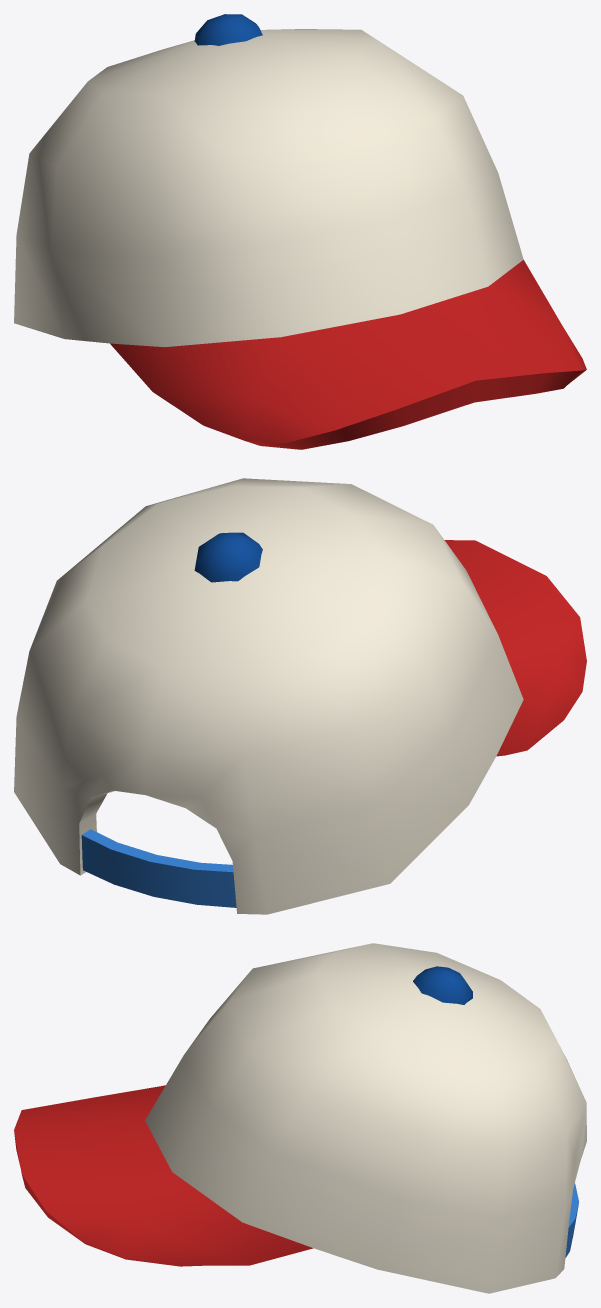
File: Headgear_1.fbx
The picture shows the model from 3 angles, top to bottom: view 1: azimuth 30°, elevation 25°; view 2: azimuth 150°, elevation 25°; view 3: azimuth 270°, elevation 25°; orthographic projection. The views are drawn at different scales.
Visible parts, largest first — view 1: Headgear_1; view 2: Headgear_1; view 3: Headgear_1.
Part boxes in pixels (bbox=[...]): Headgear_1: bbox=[14, 14, 586, 449]; Headgear_1: bbox=[14, 478, 586, 914]; Headgear_1: bbox=[14, 943, 586, 1293].
Size of the model in its own units: 58.11 by 42.07 by 82.12.
